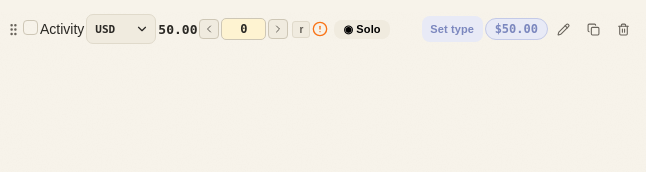
Test: CostRow - Who Field Clickability › keeps invalid-cost feedback in the shared tooltip description
Focus the picture named "Invalid cost" at (320, 29), box [312,21,328,37]
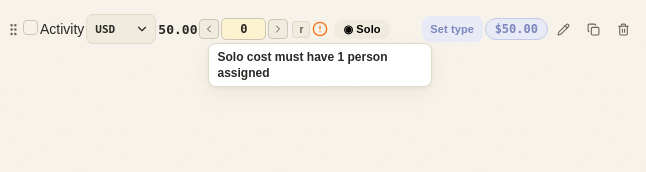
Check: the tooltip reads "Solo cost must have 1 person assigned", box [218,50,388,80]
